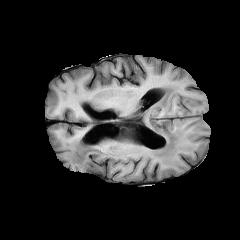glioma: (70, 85, 205, 169)
